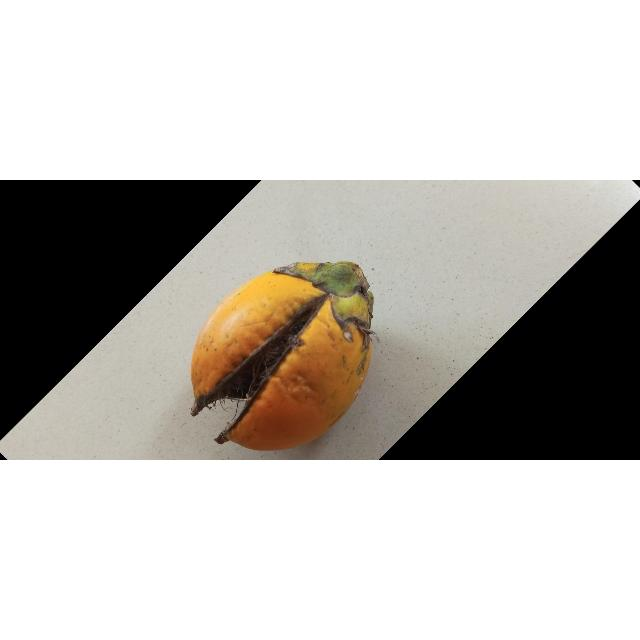damaged: (189, 263, 372, 453)
